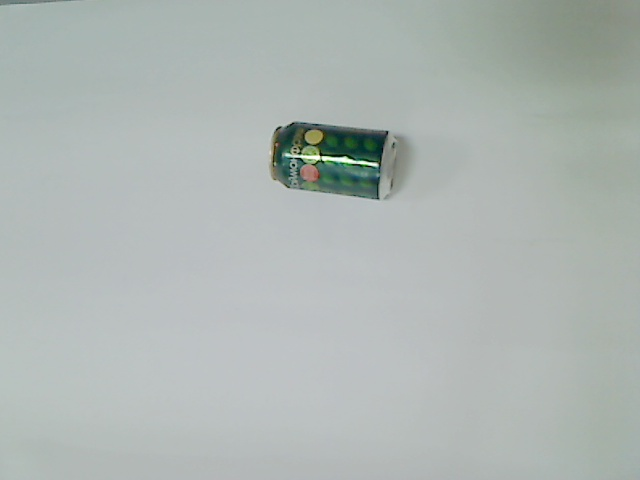can: (269, 121, 403, 203)
